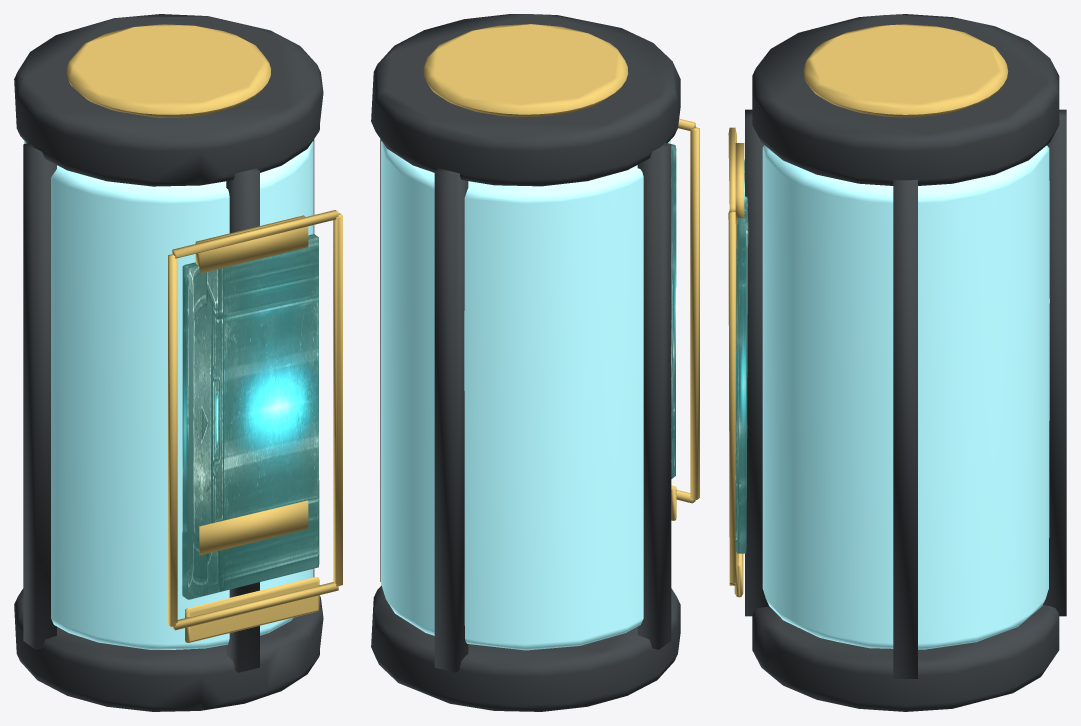
File: hp_pickup_energy_cell_amber.glb
The picture shows the model from 3 angles, left to right: view 1: azimuth 30°, elevation 25°; view 2: azimuth 150°, elevation 25°; view 3: azimuth 270°, elevation 25°; orthographic projection.
Visible parts, largest first — view 1: pickup_energy_cell_amber_transparent_outer_energy_shell, pickup_energy_cell_amber_bottom_cap, pickup_energy_cell_amber_charge_window_image2_face, pickup_energy_cell_amber_bottom_gold_contact_ring; view 2: pickup_energy_cell_amber_transparent_outer_energy_shell, pickup_energy_cell_amber_bottom_cap, pickup_energy_cell_amber_bottom_gold_contact_ring, pickup_energy_cell_amber_charge_window_image2_face; view 3: pickup_energy_cell_amber_transparent_outer_energy_shell, pickup_energy_cell_amber_bottom_cap, pickup_energy_cell_amber_bottom_gold_contact_ring, pickup_energy_cell_amber_charge_window_image2_face.
Part boxes in pixels (<box>): pickup_energy_cell_amber_transparent_outer_energy_shell: <box>24,141,313,649</box>; pickup_energy_cell_amber_bottom_cap: <box>14,14,323,711</box>; pickup_energy_cell_amber_charge_window_image2_face: <box>182,234,319,599</box>; pickup_energy_cell_amber_bottom_gold_contact_ring: <box>66,24,342,642</box>; pickup_energy_cell_amber_transparent_outer_energy_shell: <box>381,141,670,650</box>; pickup_energy_cell_amber_bottom_cap: <box>371,14,680,711</box>; pickup_energy_cell_amber_bottom_gold_contact_ring: <box>423,24,699,520</box>; pickup_energy_cell_amber_charge_window_image2_face: <box>671,144,676,478</box>; pickup_energy_cell_amber_transparent_outer_energy_shell: <box>762,145,1049,649</box>; pickup_energy_cell_amber_bottom_cap: <box>745,14,1066,711</box>; pickup_energy_cell_amber_bottom_gold_contact_ring: <box>728,24,1008,597</box>; pickup_energy_cell_amber_charge_window_image2_face: <box>735,159,748,553</box>.
Size of the model in its own units: 0.4549 by 0.932 by 0.4784.
Materials: 5 (1 with a texture image).
